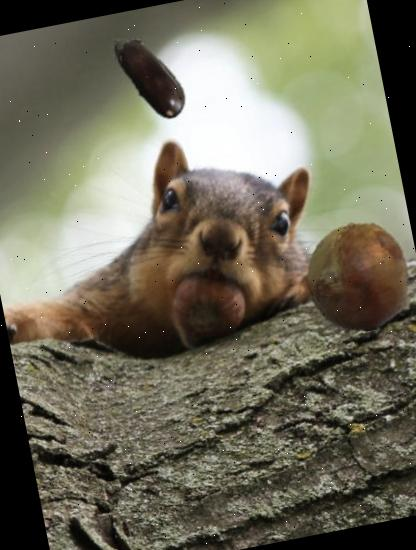Eggplant: (86, 13, 210, 137)
Onion: (291, 212, 416, 342)
